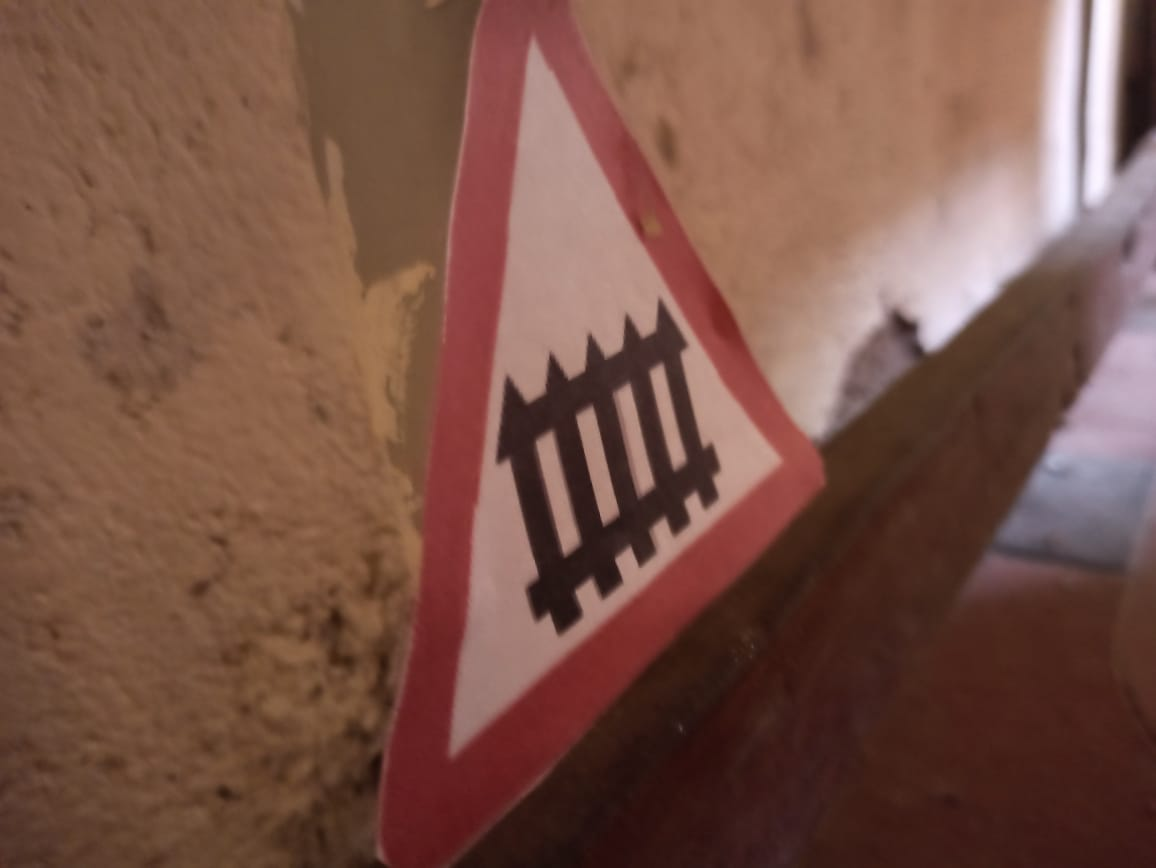GUARDED LEVEL CROSSING: (283, 1, 835, 854)
